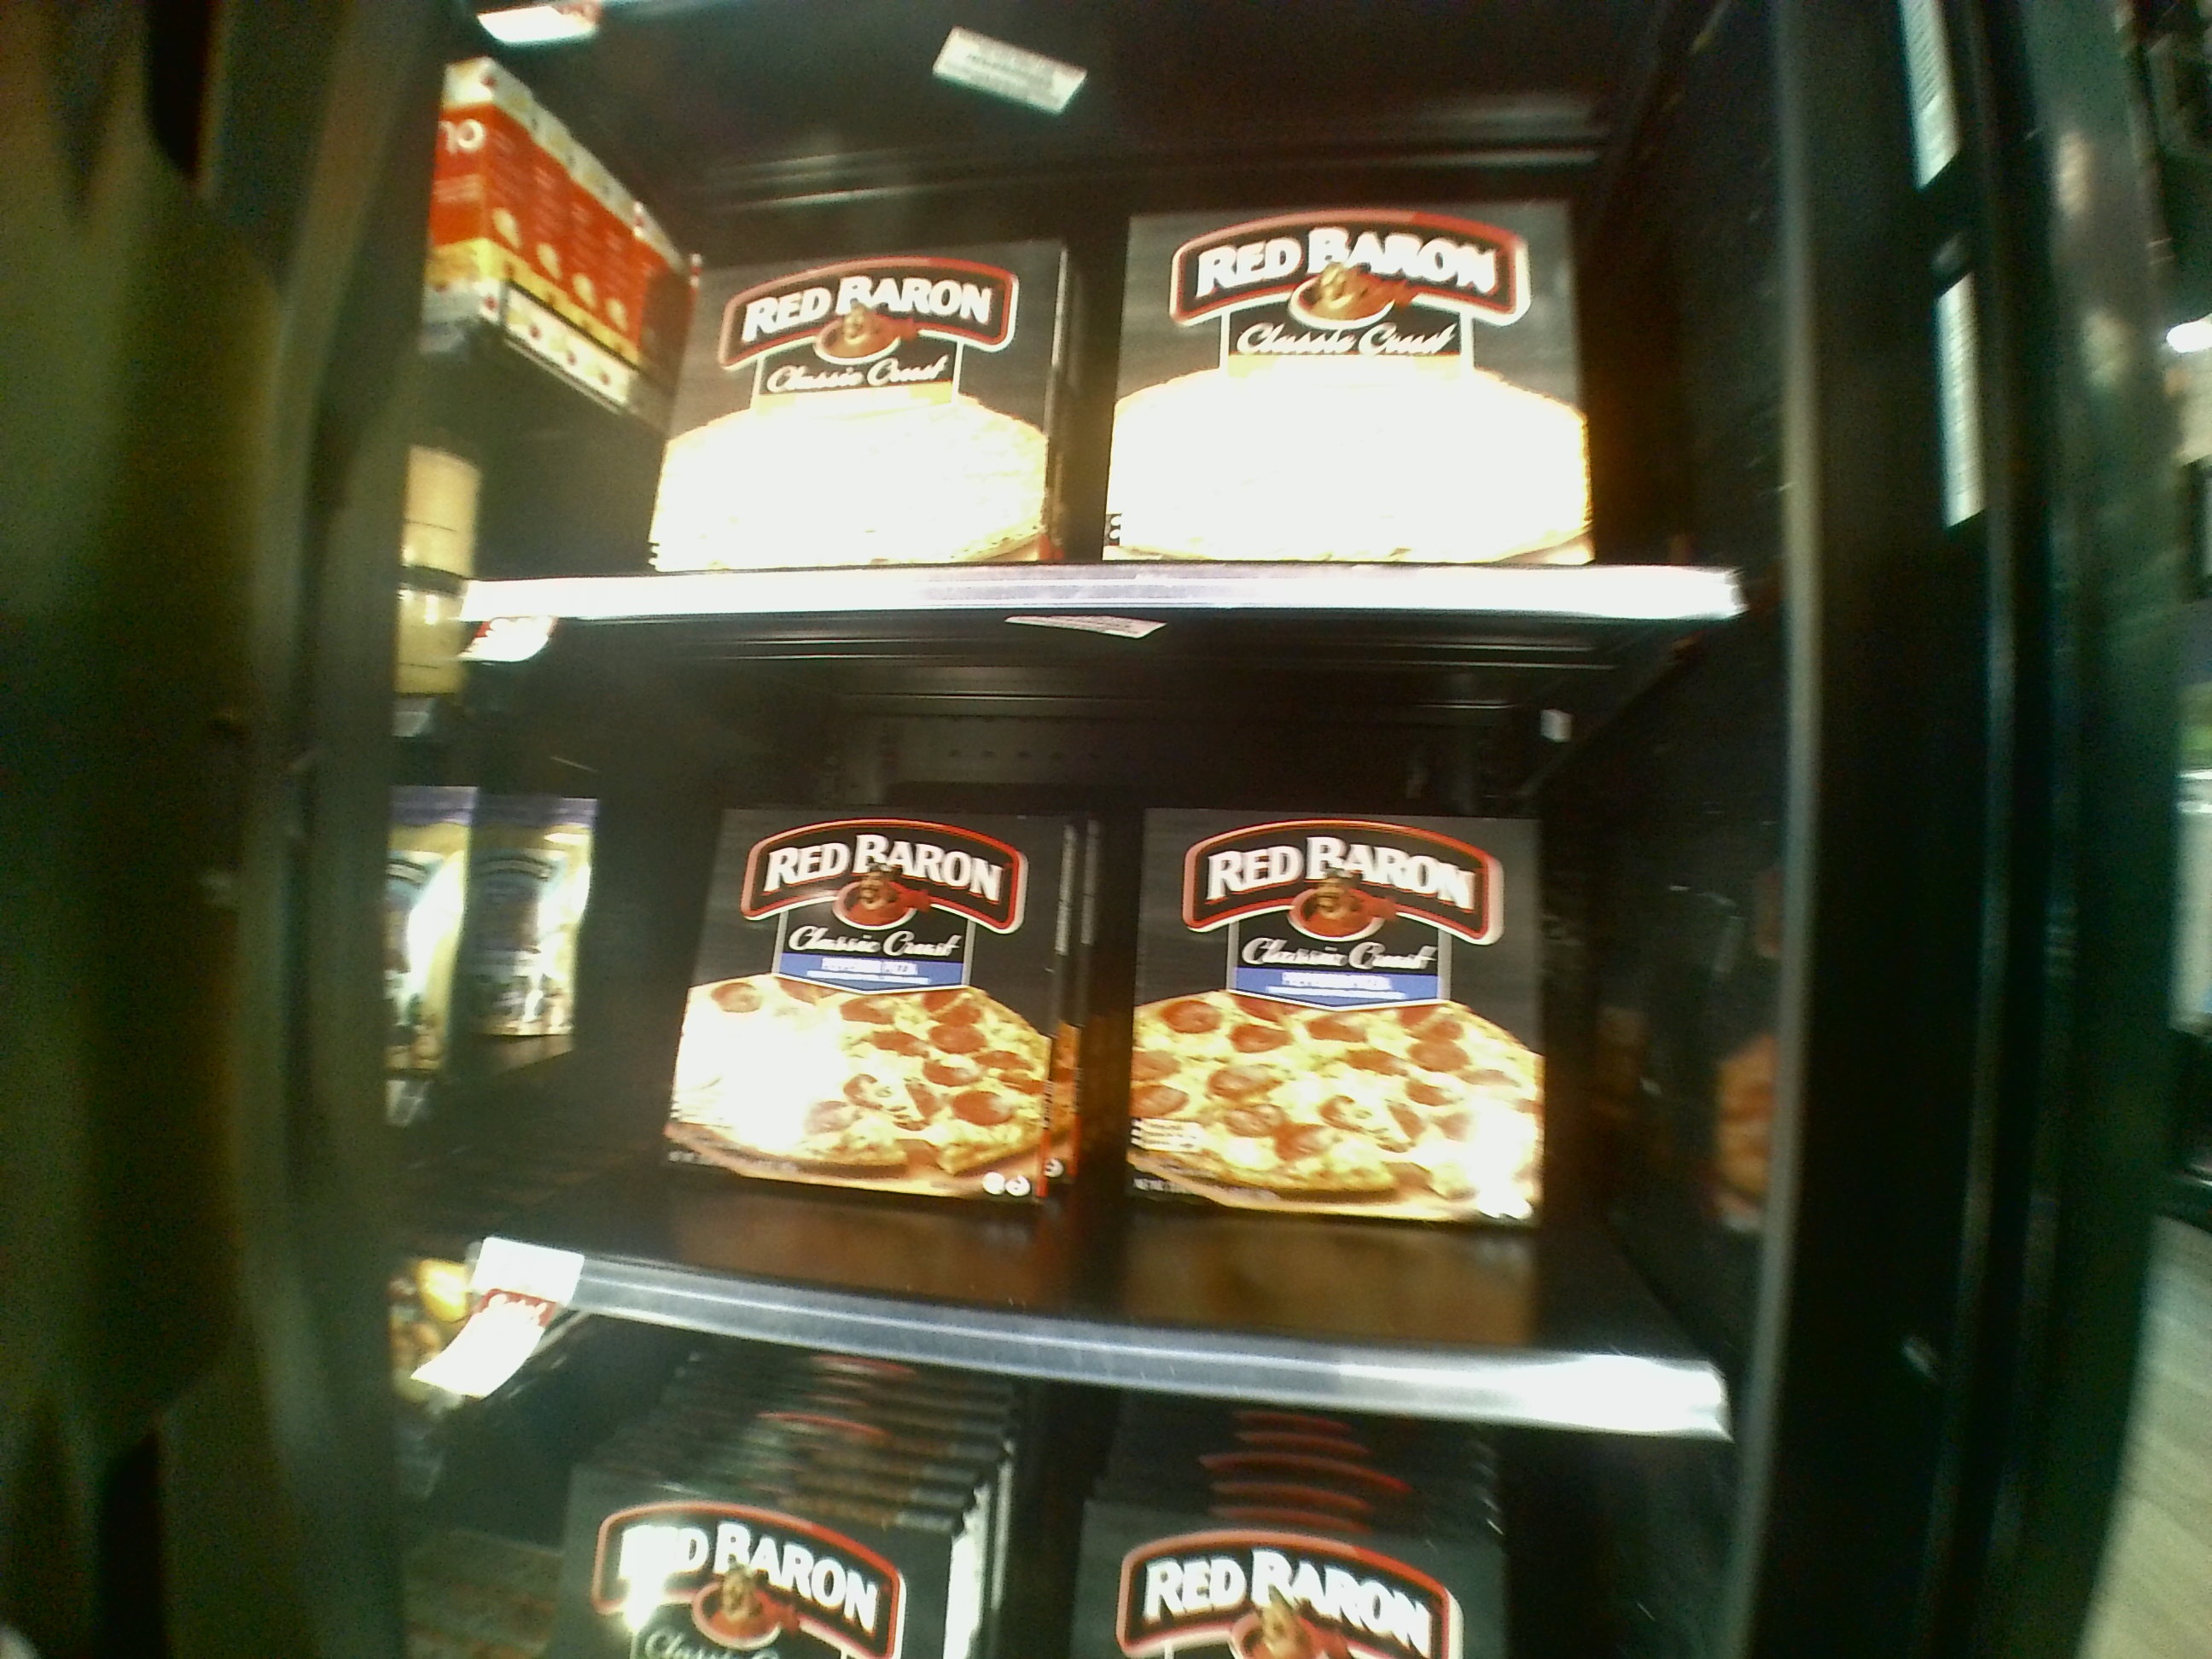shelf: (472, 613, 1735, 1382), (557, 12, 1737, 629)
